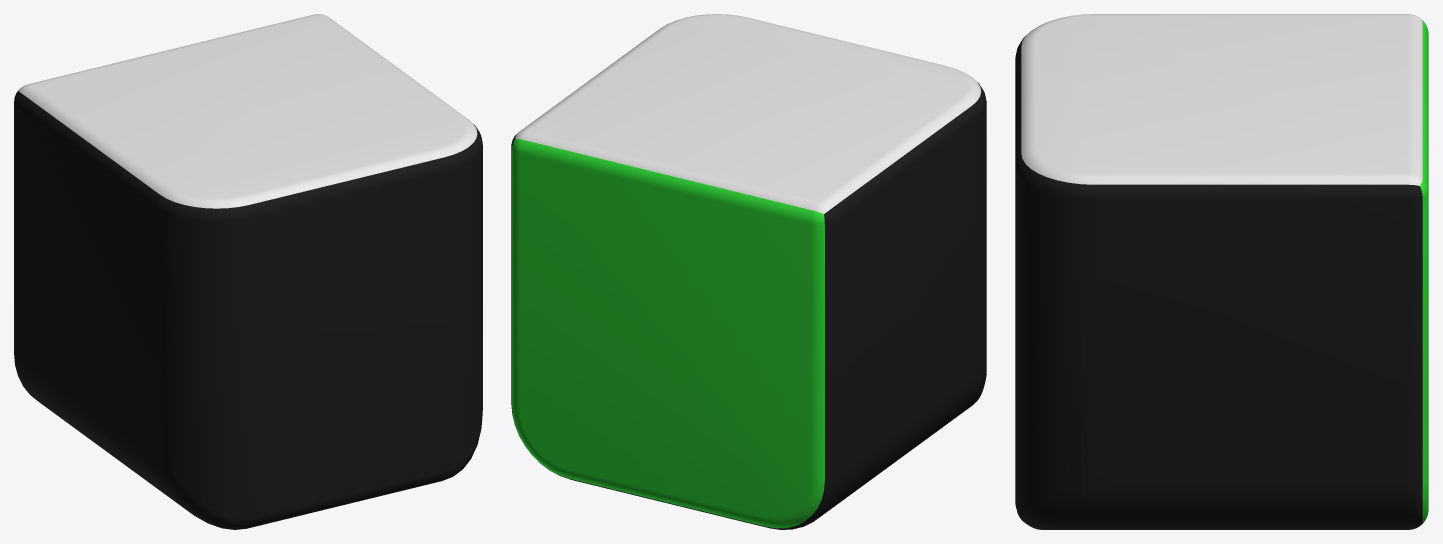
Rendered from wg_edge.glb.
The picture shows the model from 3 angles, left to right: view 1: azimuth 30°, elevation 25°; view 2: azimuth 150°, elevation 25°; view 3: azimuth 270°, elevation 25°; orthographic projection. The views are drawn at different scales.
Parts seen in each view (by area): view 1: Cube.005; view 2: Cube.005; view 3: Cube.005.
Part boxes in pixels (box(x1,y1,x2,y2)): Cube.005: box(14, 14, 482, 529); Cube.005: box(511, 14, 986, 529); Cube.005: box(1015, 14, 1428, 529).
Bounding box in the file's own units: 2 × 2 × 2.
